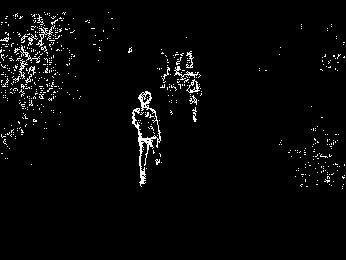person: (129, 90, 164, 189)
